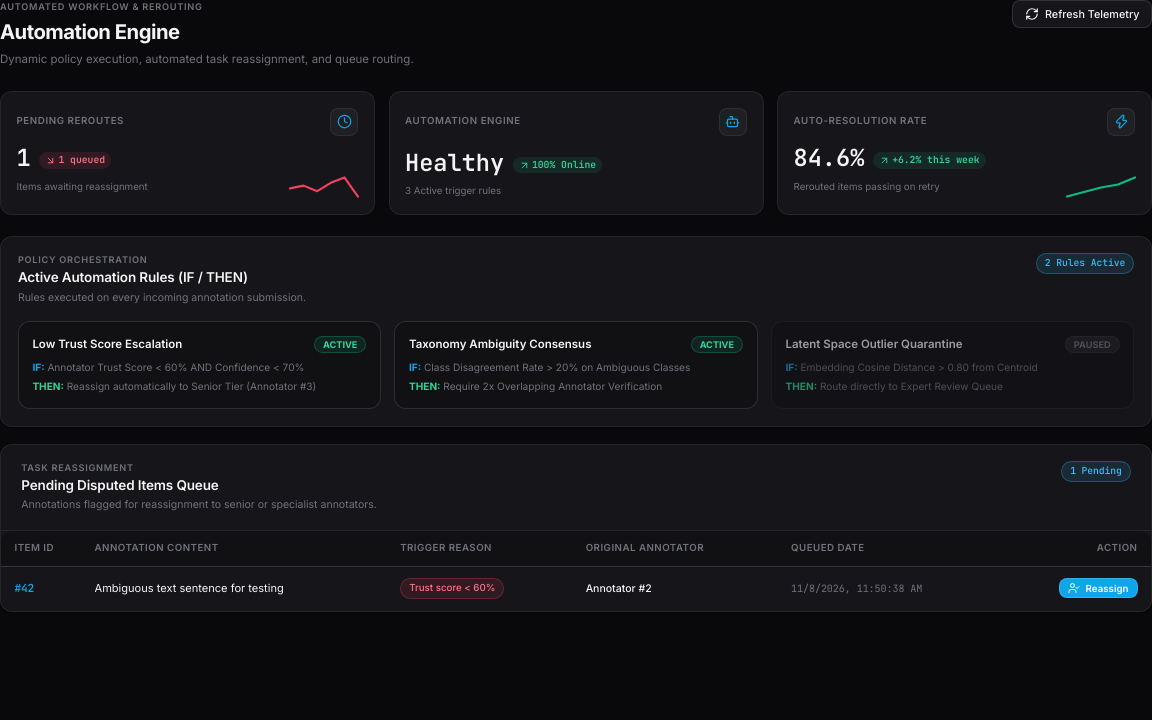
Scenario: AutomationDashboard Page › opens reassignment modal and assigns task to target annotator
The width and height of the screenshot is (1152, 720).
Expected: the text "#42" is shown, [14, 582, 34, 596]
Click the button "Reassign": coordinates (1098, 588) [1058, 578, 1138, 598]
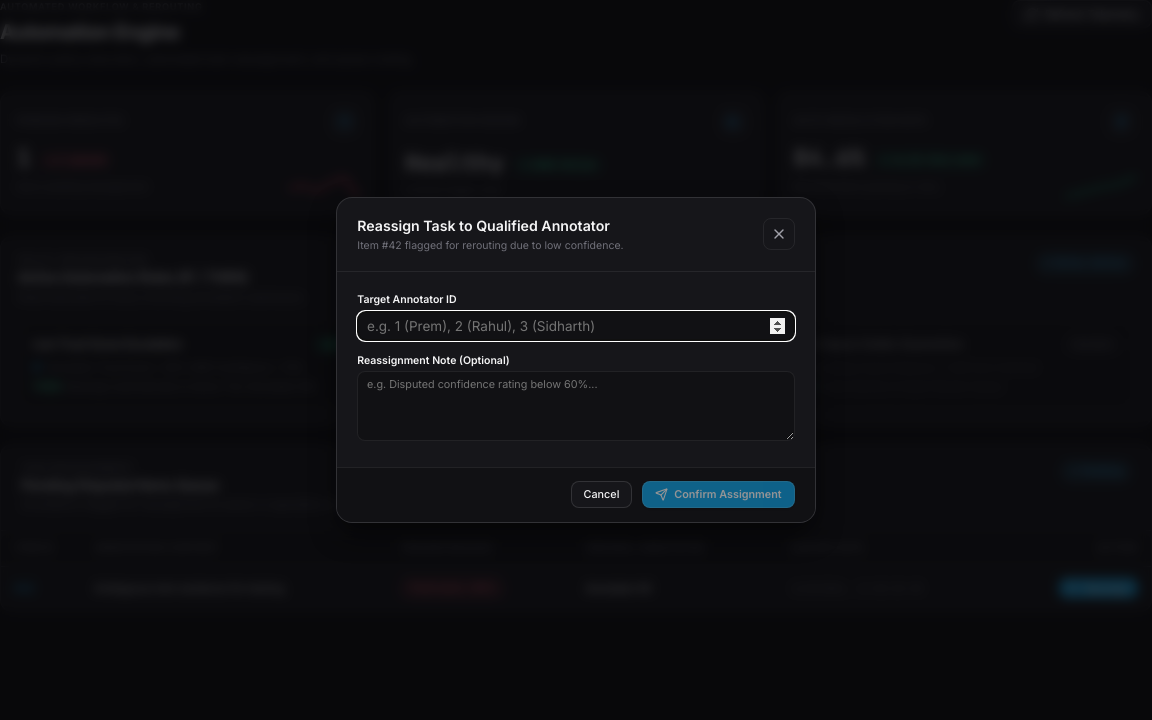
Expected: the heading "Reassign Task to Qualified Annotator" is shown, [357, 215, 624, 236]
In the number field with placeholder "e.g. 1 (Prem), 2 (Rahul), 3 (Sidharth)": coordinates (576, 326) [357, 311, 795, 341], type "3"
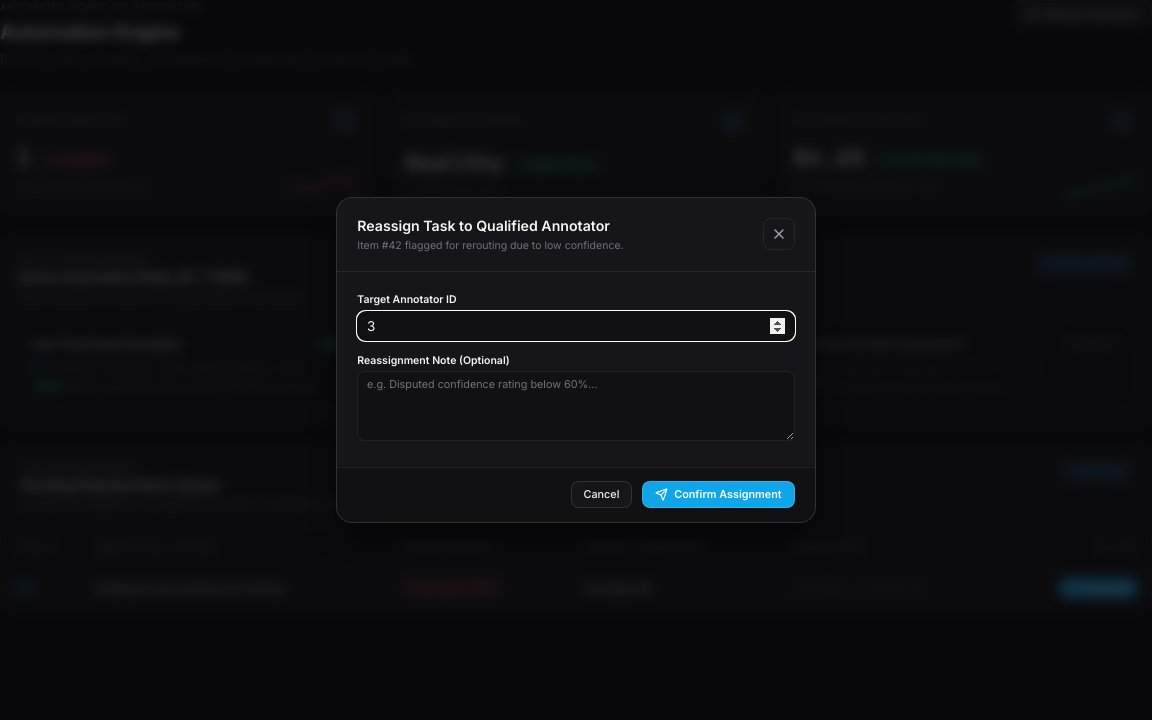
Click the button "Confirm Assignment": coordinates (718, 495) [642, 481, 795, 508]
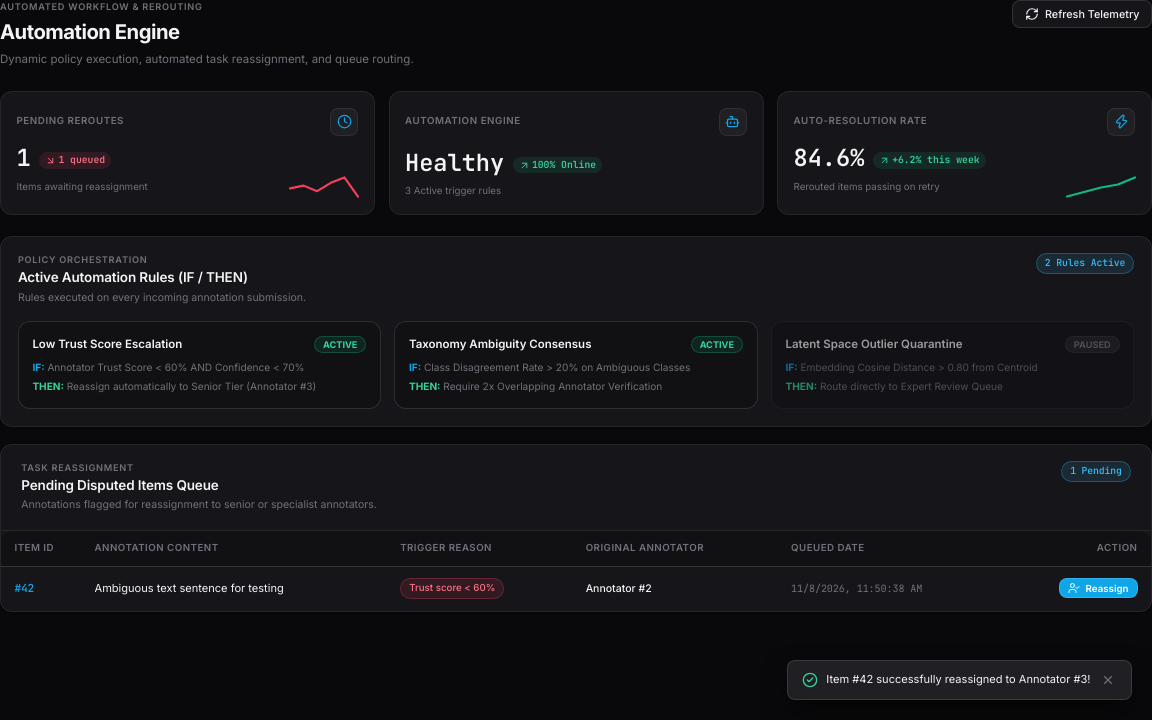
Expected: the text "Item #42 successfully reassigned to Annotator #3!" is shown, [826, 672, 1090, 687]
